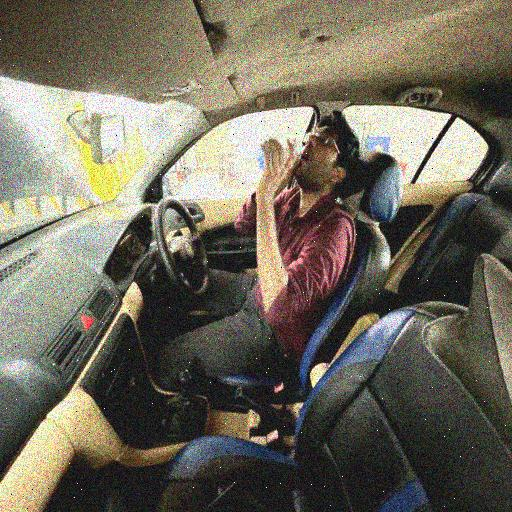Drinking: (229, 111, 362, 338)
